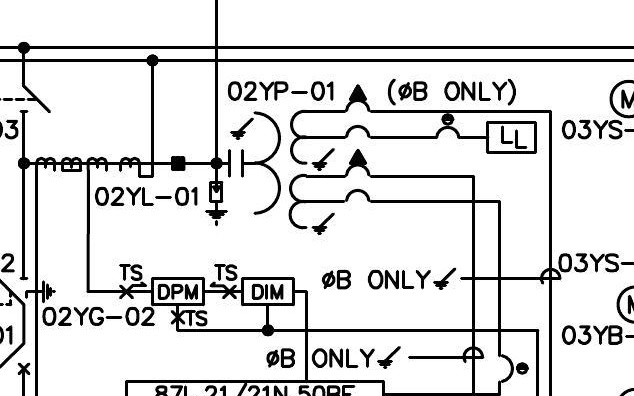115_cvt_1p: (227, 83, 373, 236)
115_la: (204, 181, 228, 227)
DIM: (241, 277, 295, 306)
DPM: (151, 277, 205, 306)
LL: (486, 121, 537, 154)
